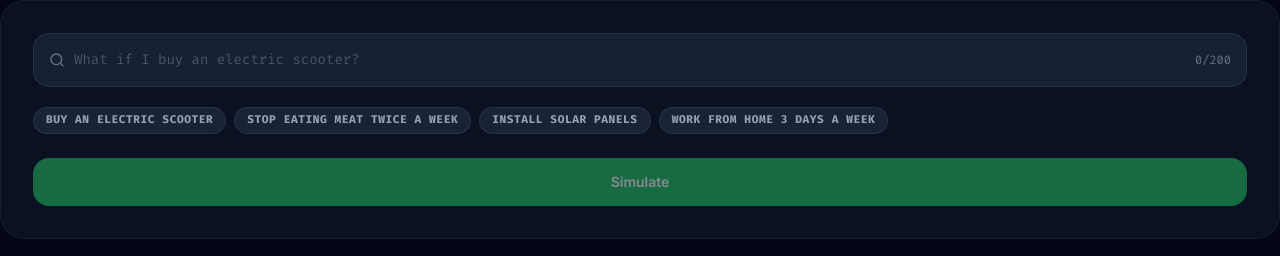
Test case: WhatIfForm › disables submit until valid
Expected: the button "Simulate" is disabled, [33,158,1247,206]
Type "What if I go solar?" into the field named "enter your what-if question" at (640, 60), box [33,33,1247,87]
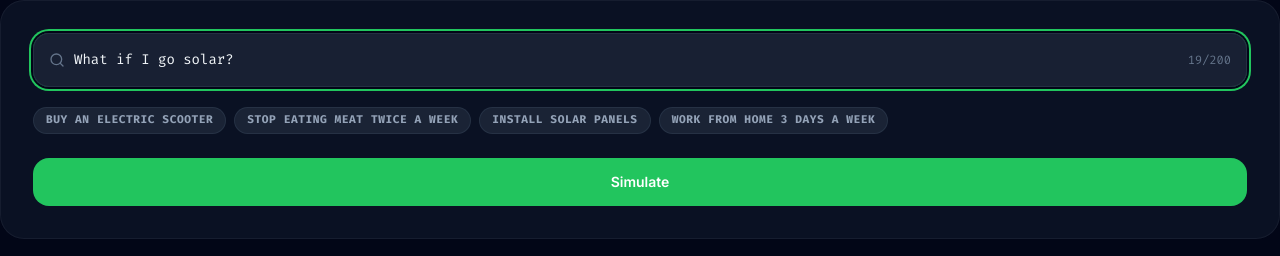
Result: the button "Simulate" is enabled at [33,158,1247,206]
